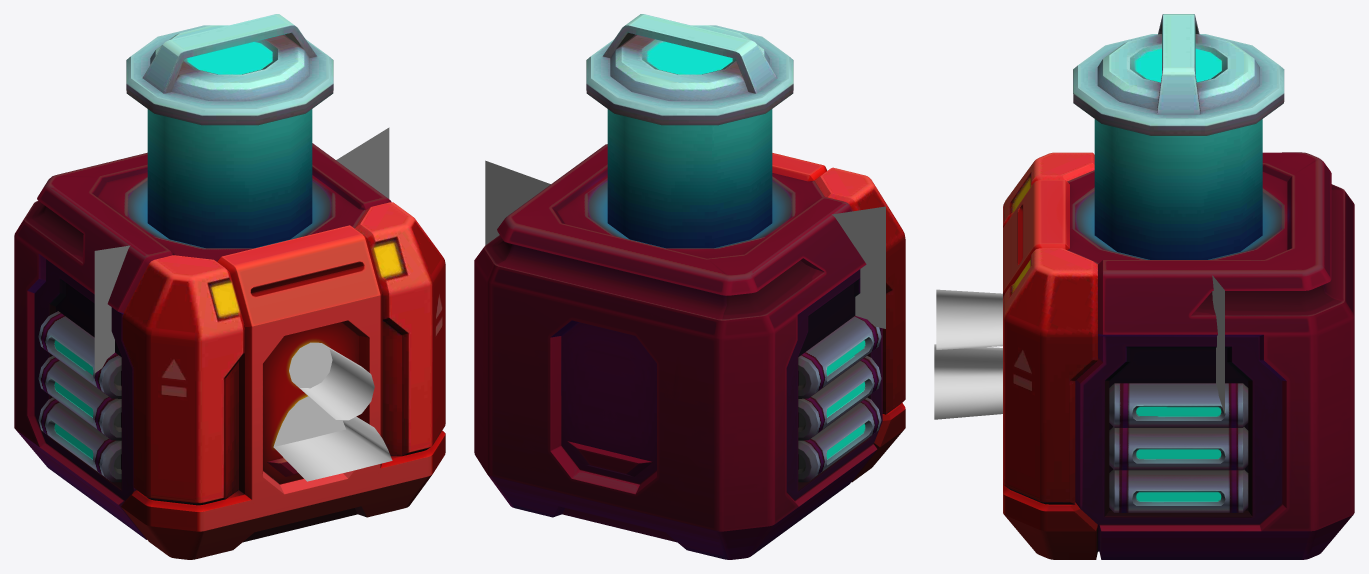
The model's file is HeroBox.glb.
3 renders of one model, left to right at view 1: azimuth 30°, elevation 25°; view 2: azimuth 150°, elevation 25°; view 3: azimuth 270°, elevation 25°, orthographic.
Visible parts, largest first — view 1: LootBox_Heroes_Case, LootBox_Heroes_Cap, LootBox_Heroes_Lock_L, LootBox_Heroes_Lock_R, HeroVFX, LootBox_Heroes_Glow; view 2: LootBox_Heroes_Case, LootBox_Heroes_Cap, LootBox_Heroes_Glow, LootBox_Heroes_Lock_L; view 3: LootBox_Heroes_Case, LootBox_Heroes_Cap, LootBox_Heroes_Lock_R, HeroVFX, LootBox_Heroes_Lock_L, LootBox_Heroes_Glow.
Part boxes in pixels (box(x1,y1,x2,y2)): LootBox_Heroes_Case: box(14, 143, 445, 559); LootBox_Heroes_Cap: box(126, 14, 333, 248); LootBox_Heroes_Lock_L: box(122, 255, 244, 505); LootBox_Heroes_Lock_R: box(354, 202, 445, 456); HeroVFX: box(273, 342, 392, 481); LootBox_Heroes_Glow: box(94, 127, 389, 373); LootBox_Heroes_Case: box(474, 144, 905, 559); LootBox_Heroes_Cap: box(586, 14, 793, 248); LootBox_Heroes_Glow: box(485, 160, 885, 328); LootBox_Heroes_Lock_L: box(814, 167, 905, 414); LootBox_Heroes_Case: box(1003, 152, 1354, 559); LootBox_Heroes_Cap: box(1073, 14, 1284, 259); LootBox_Heroes_Lock_R: box(1003, 248, 1097, 504); HeroVFX: box(934, 289, 1002, 419); LootBox_Heroes_Lock_L: box(1003, 152, 1094, 227); LootBox_Heroes_Glow: box(1212, 275, 1224, 414).
Bounding box in the file's own units: 0.7926 × 0.9796 × 0.8148.
3 materials, 2 textured.
